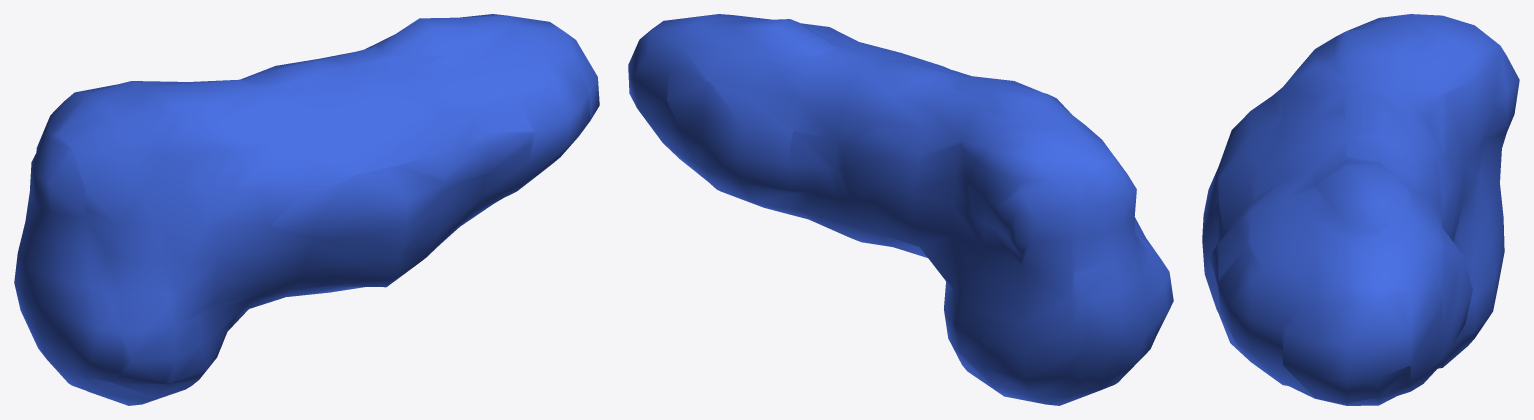
Rendered from Vesicle_133A2Aligned.fbx.
3 renders of one model, left to right at view 1: azimuth 30°, elevation 25°; view 2: azimuth 150°, elevation 25°; view 3: azimuth 270°, elevation 25°, orthographic. The views are drawn at different scales.
Parts seen in each view (by area): view 1: vesicle_MeshVes133Mesh; view 2: vesicle_MeshVes133Mesh; view 3: vesicle_MeshVes133Mesh.
Part boxes in pixels (x1,y1,x2,y2): vesicle_MeshVes133Mesh: [14, 14, 599, 405]; vesicle_MeshVes133Mesh: [628, 14, 1173, 405]; vesicle_MeshVes133Mesh: [1202, 14, 1519, 405].
Bounding box in the file's own units: 80.34 × 43.89 × 34.68.
